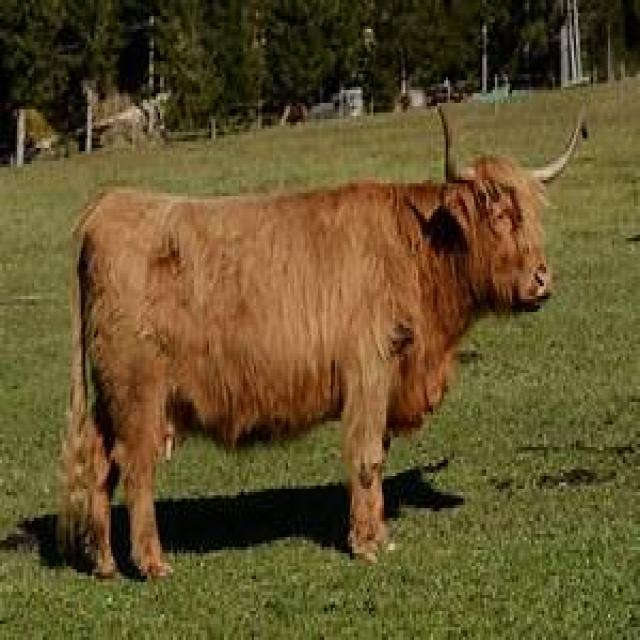cow: (53, 103, 589, 582)
